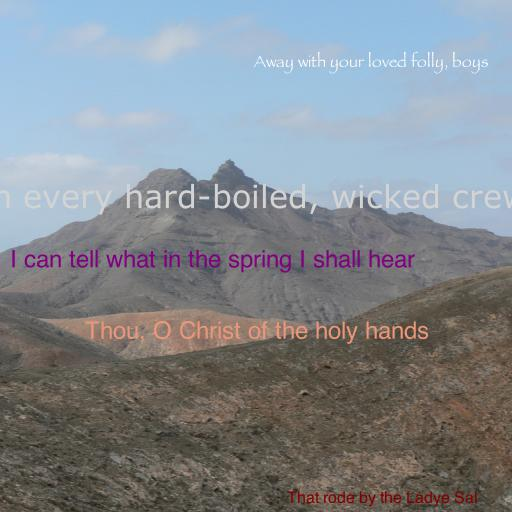Apple Chancery: (85, 320, 429, 344)
Helvetica: (9, 250, 415, 273)
Papyrus: (253, 51, 489, 74)
SignPainter: (286, 491, 478, 507)
Verdana: (0, 183, 512, 215)
